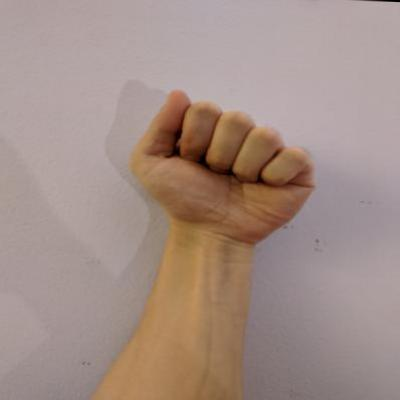hand: (120, 81, 325, 251)
